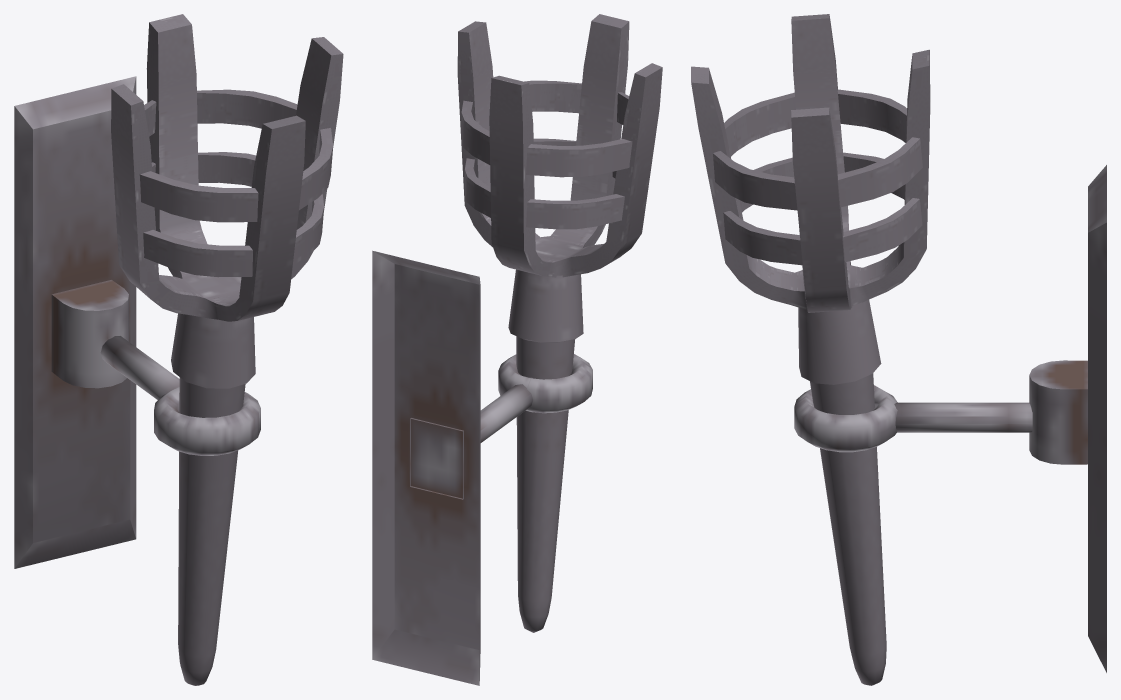
File: Torch_Metal.glb
3 renders of one model, left to right at view 1: azimuth 30°, elevation 25°; view 2: azimuth 150°, elevation 25°; view 3: azimuth 270°, elevation 25°, orthographic. The views are drawn at different scales.
Visible parts, largest first — view 1: Torch_Metal; view 2: Torch_Metal; view 3: Torch_Metal.
Part boxes in pixels (left/top/right/bottom): Torch_Metal: left=14, top=14, right=343, bottom=685; Torch_Metal: left=372, top=14, right=662, bottom=685; Torch_Metal: left=691, top=14, right=1106, bottom=685.
Size of the model in its own units: 0.2231 by 0.6482 by 0.3884.
1 material, 1 textured.
